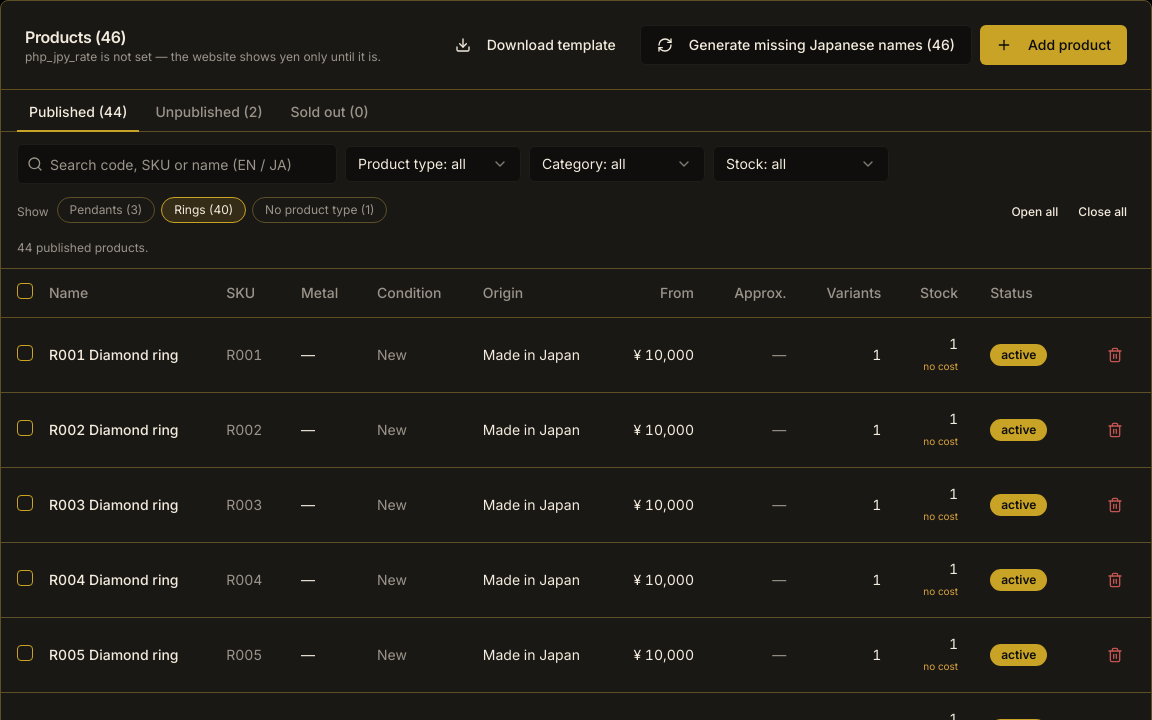
Test: Catalog: product types picked by chip, with paging › Select all takes only the rows shown: the current page of the open type
This screenshot has width=1152, height=720.
What coordinates should you click on to do the following:
click the checkbox named "Select all shown"
I would click on:
 (25, 291)
Its box is [17,283,33,299].
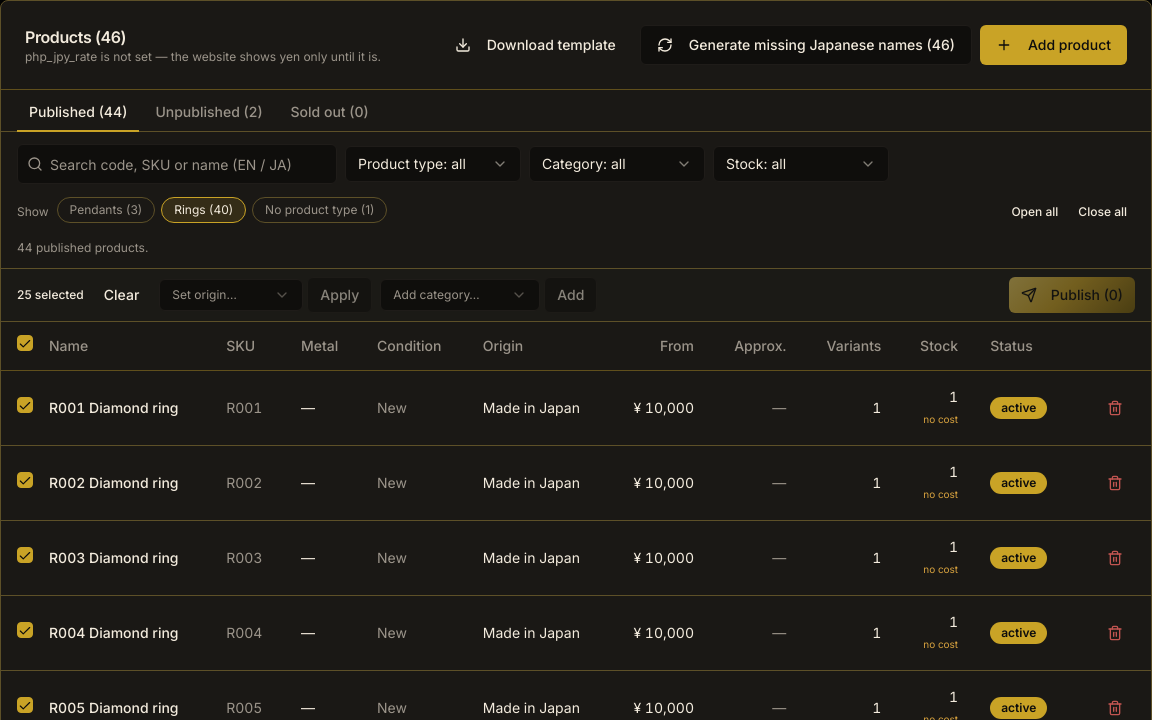
Now the text "25 selected" is shown, box [17,287,84,303]
What coordinates should you click on to do the following:
click the checkbox named "Select all shown"
I would click on:
 (25, 343)
Its box is [17,335,33,351].
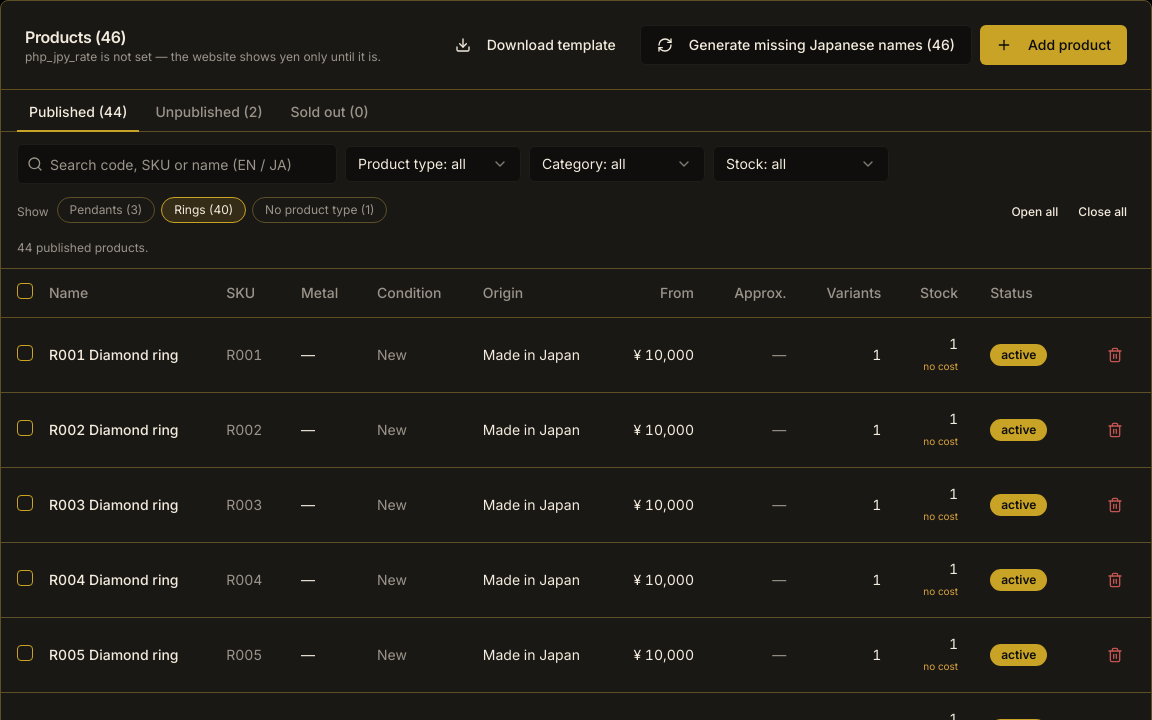
Now the text "selected" is gone
